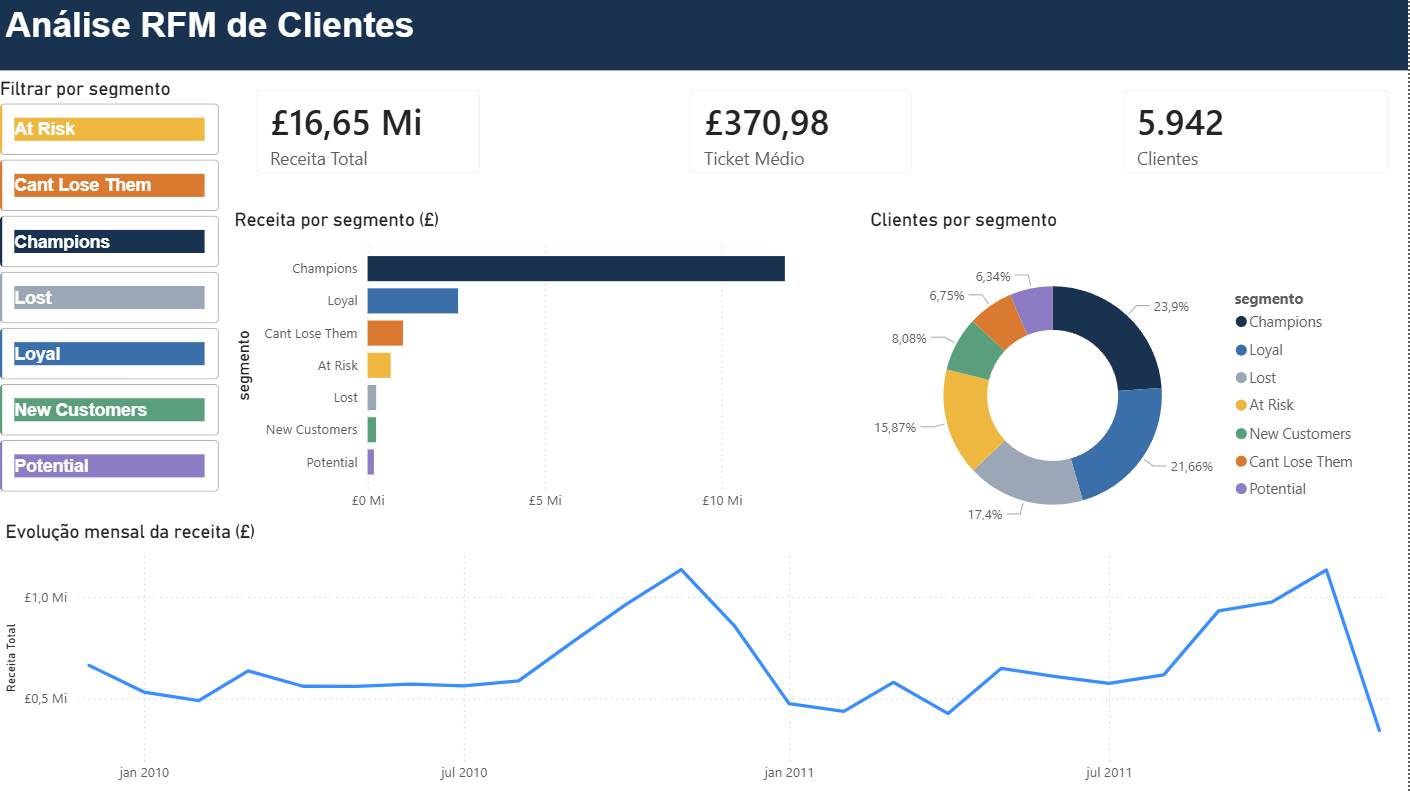

The dashboard page shown, as its layout file describes it:
{"tool":"powerbi","page":{"name":"Página 1","canvas":[1280,720],"ordinal":0},"visuals":[{"type":"cardVisual","fields":{"Data":["rfm.Receita Total"]},"box":[215.2,64.1,238.1,110],"z":0},{"type":"cardVisual","fields":{"Data":["rfm.Clientes Cartão"]},"box":[1003.3,64.1,276.7,110],"z":1000},{"type":"cardVisual","fields":{"Data":["rfm.Ticket Médio"]},"box":[610.1,64.1,236.3,110],"z":2000},{"type":"clusteredBarChart","title":"Receita por segmento (£)","fields":{"Category":["rfm.segmento"],"Y":["rfm.Receita Total"]},"box":[208.2,189.1,536.4,283.6],"z":3000},{"type":"donutChart","title":"Clientes por segmento","fields":{"Category":["rfm.segmento"],"Y":["rfm.Clientes"]},"box":[786.4,189.1,458.2,321.8],"z":4000},{"type":"lineChart","title":"Evolução mensal da receita (£)","fields":{"Category":["vendas.InvoiceDate.Variation.Hierarquia de datas.Ano","vendas.InvoiceDate.Variation.Hierarquia de datas.Mês"],"Y":["rfm.Receita Total"]},"box":[0,472.6,1280,247.7],"z":5000},{"type":"advancedSlicerVisual","title":"Filtrar por segmento","fields":{"Values":["rfm.segmento"]},"box":[0,70.3,199.4,380],"z":6000},{"type":"textbox","box":[0,0,1280,64],"z":7000}]}

Visuals, with their boxes in screenshot pixels (x1, y1, x2, y2), scaled from the page's 1280x720 canvas onto the 1410x792 screenshot:
cardVisual - rfm.Receita Total: (237, 71, 499, 192)
cardVisual - rfm.Clientes Cartão: (1105, 71, 1409, 192)
cardVisual - rfm.Ticket Médio: (672, 71, 932, 192)
"Receita por segmento (£)" clusteredBarChart: (229, 208, 820, 520)
"Clientes por segmento" donutChart: (866, 208, 1371, 562)
"Evolução mensal da receita (£)" lineChart: (0, 520, 1409, 791)
"Filtrar por segmento" advancedSlicerVisual: (0, 77, 220, 495)
textbox: (0, 0, 1409, 70)
